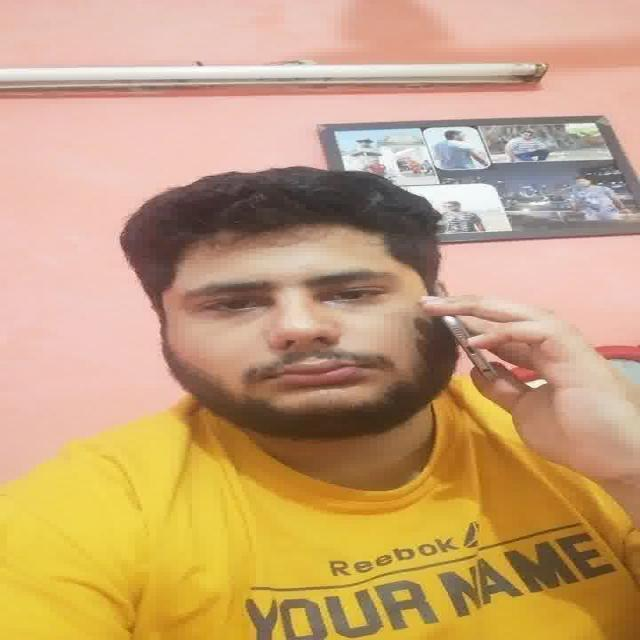Phone: (436, 276, 507, 386)
